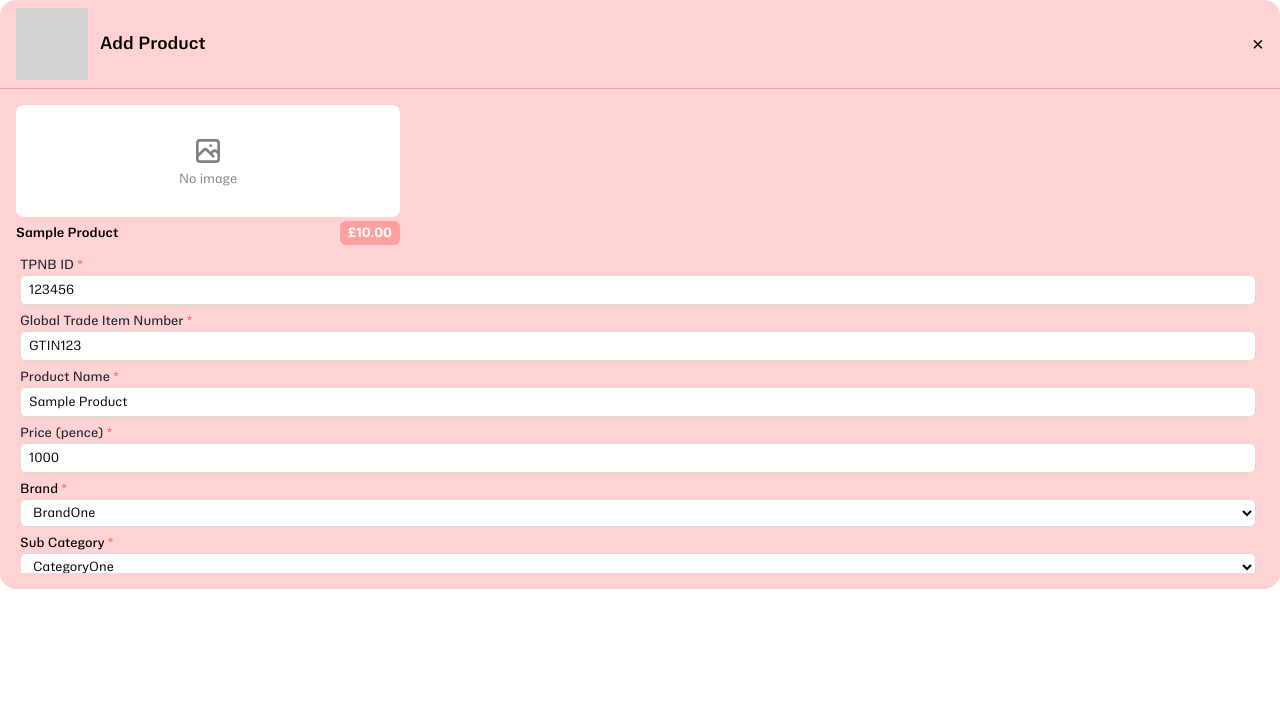
it: ProductLibrarySidePanel › updates price preview when price field changes
Replace the text in the field named "price" below "Price (pence)" with "1234" at (638, 458), box [20, 443, 1256, 473]
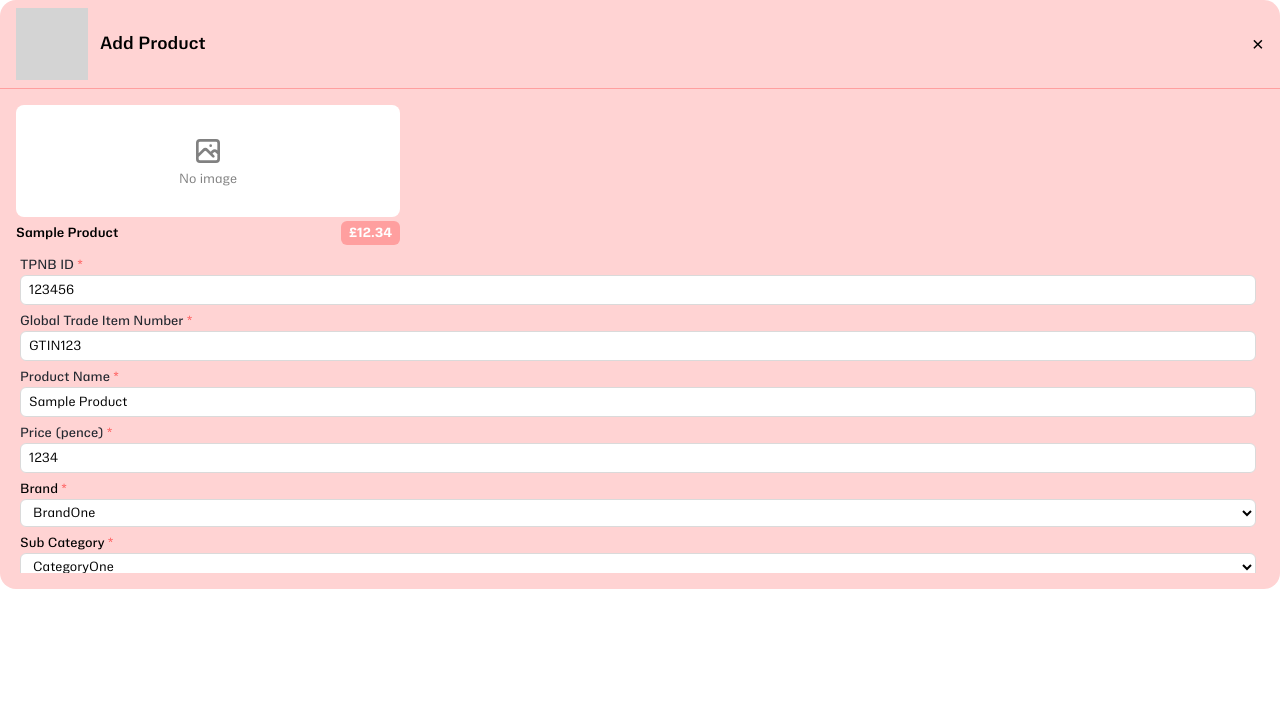
Expected: the text "£12.34" is shown, [341, 221, 400, 245]
